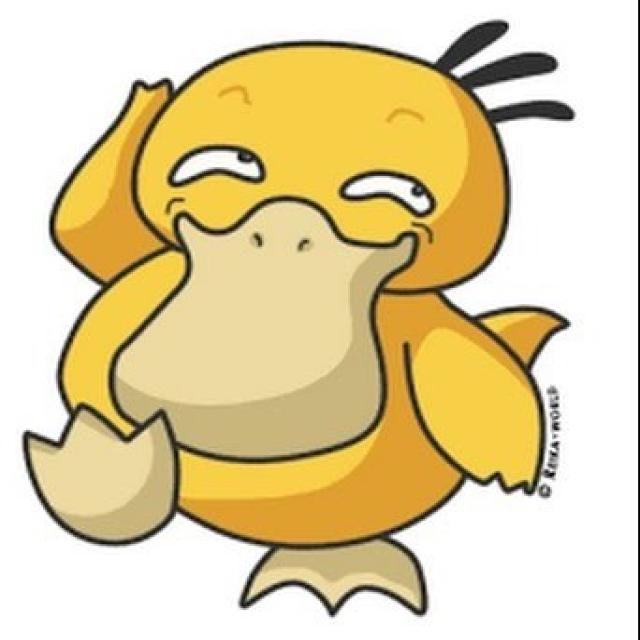Psyduck: (61, 36, 551, 613)
